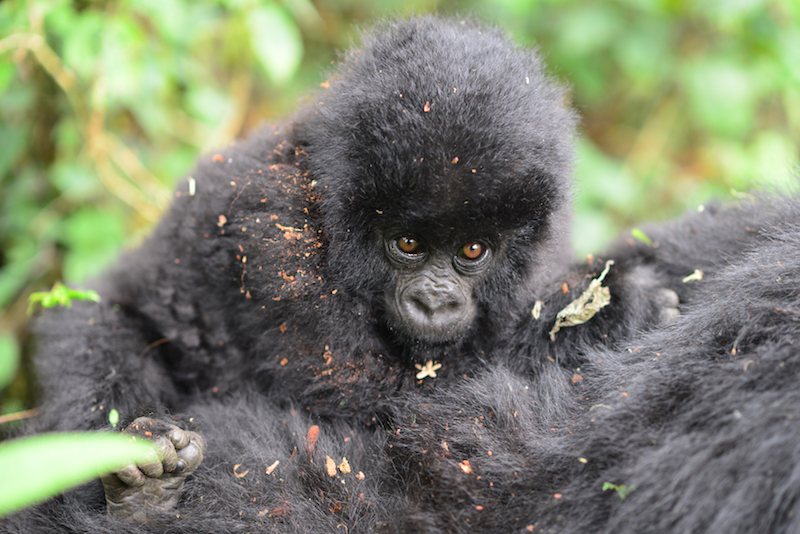Goriila: (112, 12, 542, 431)
